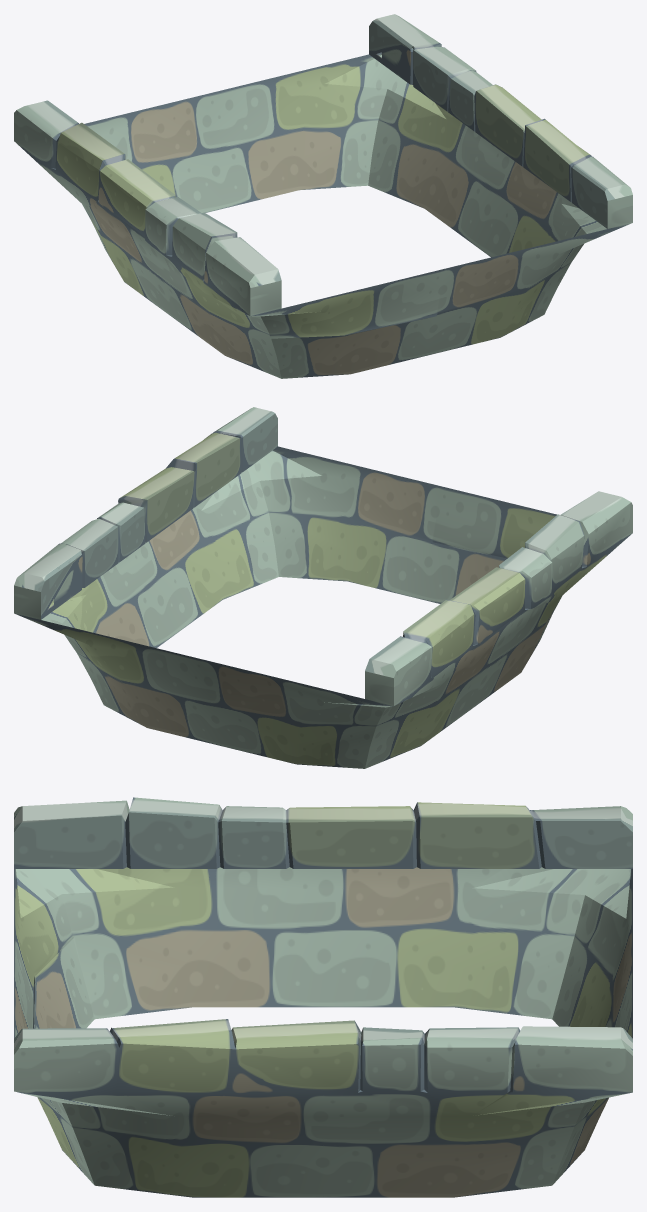
File: mesaPedra.FBX
3 views of the same model, one above another, from view 1: azimuth 30°, elevation 25°; view 2: azimuth 150°, elevation 25°; view 3: azimuth 270°, elevation 25° (orthographic). The views are drawn at different scales.
Visible parts, largest first — view 1: baseMesaPedra01; view 2: baseMesaPedra01; view 3: baseMesaPedra01.
Part boxes in pixels (x1=…): baseMesaPedra01: x1=14, y1=14, x2=632, y2=378; baseMesaPedra01: x1=14, y1=407, x2=632, y2=768; baseMesaPedra01: x1=14, y1=797, x2=632, y2=1197.
Bounding box in the file's own units: 178 × 63.62 × 191.
